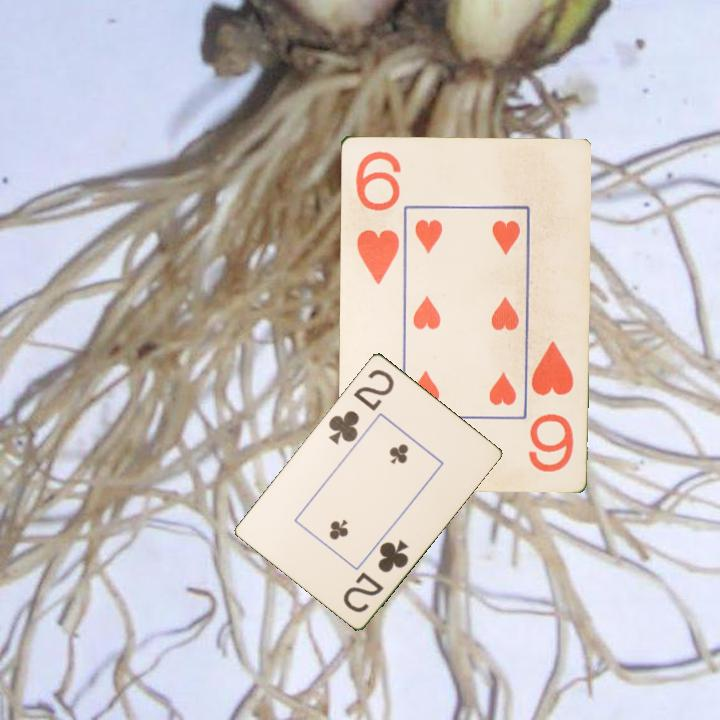2c: (325, 365, 397, 447), (339, 536, 412, 615)
6h: (348, 147, 402, 287), (526, 337, 577, 475)
